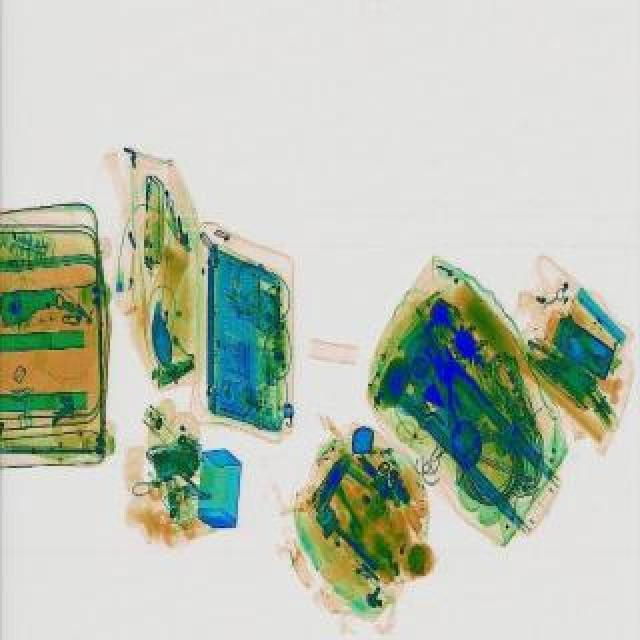wrench: (420, 336, 492, 424)
